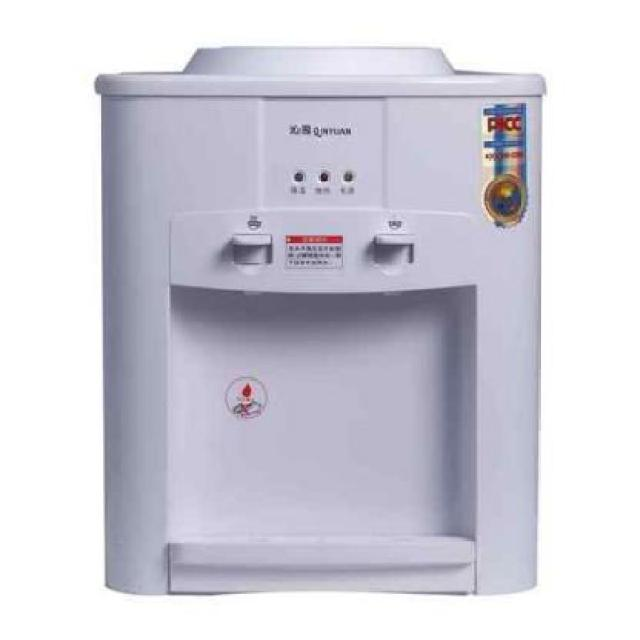cooler: (95, 38, 551, 594)
